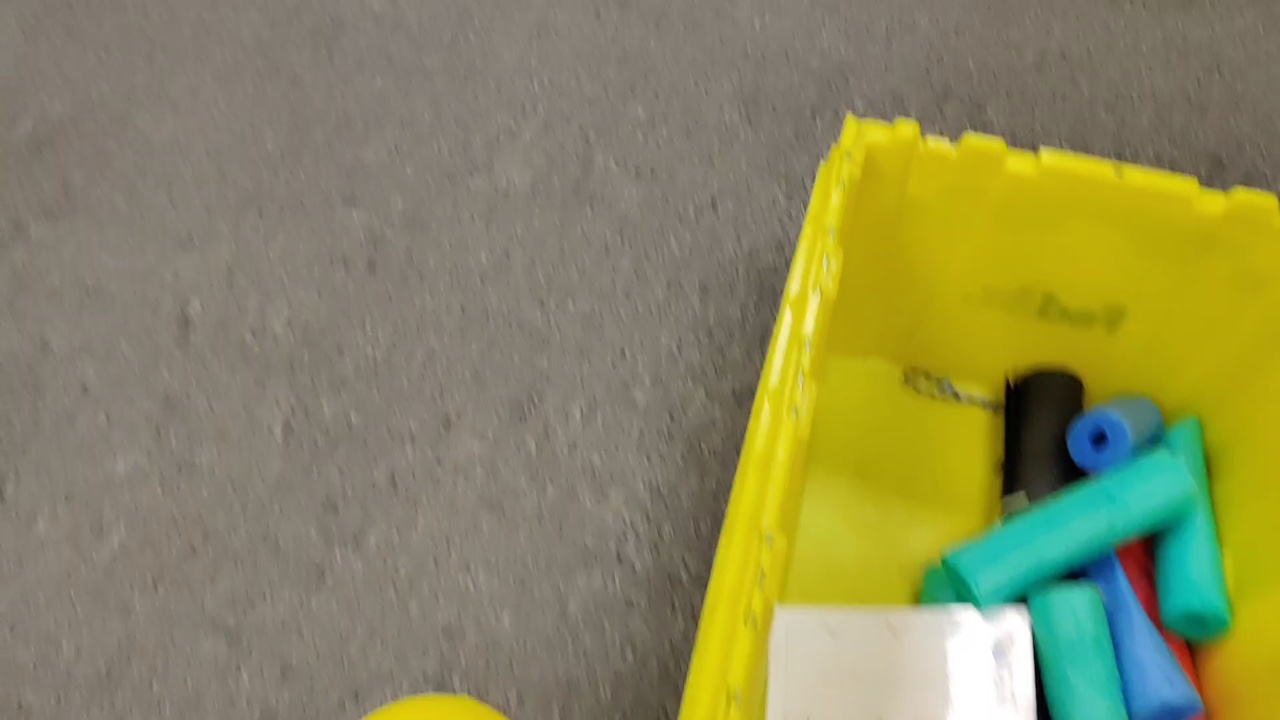Ball: (358, 693, 511, 720)
